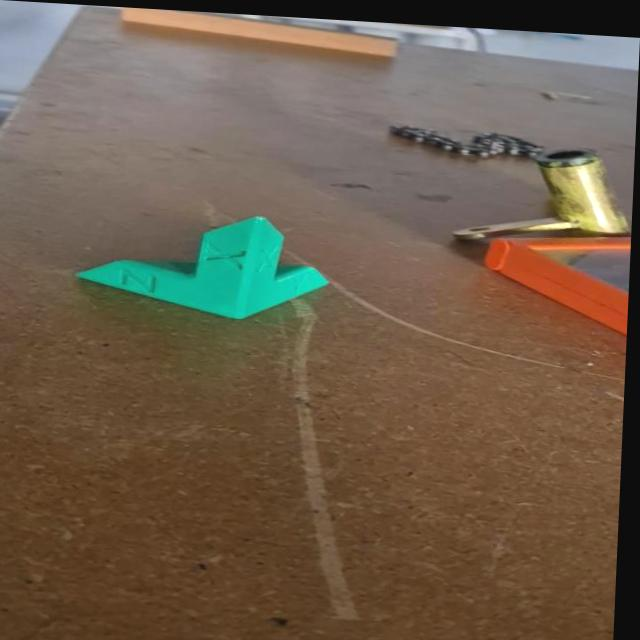eje: (72, 205, 333, 326)
